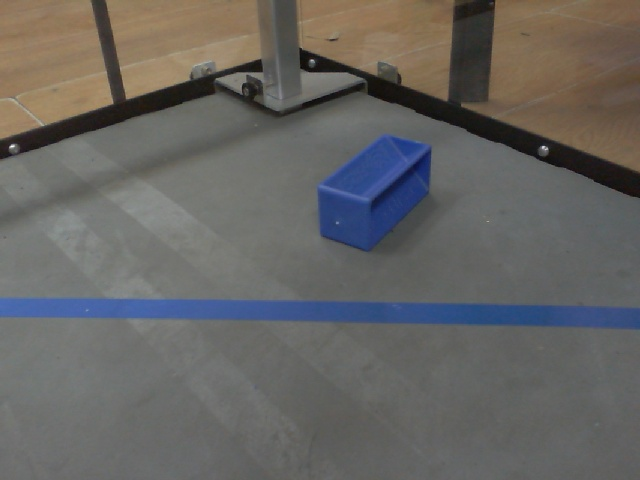BlueSample: (315, 129, 434, 253)
